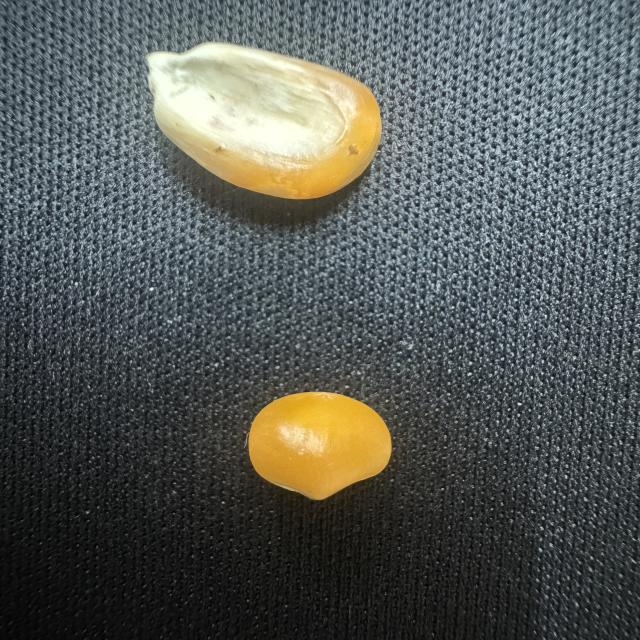Bad-Seed: (243, 384, 402, 506)
Good-Seed: (139, 39, 387, 207)
